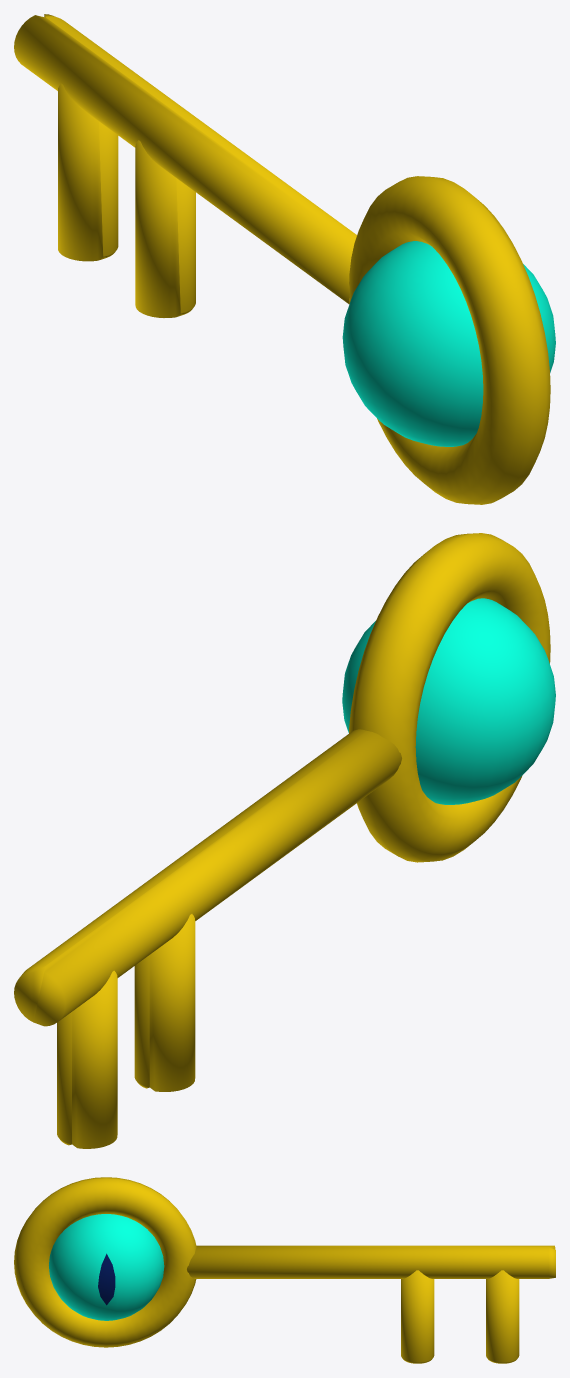
File: anahtar.fbx
The picture shows the model from 3 angles, top to bottom: view 1: azimuth 30°, elevation 25°; view 2: azimuth 150°, elevation 25°; view 3: azimuth 270°, elevation 25°; orthographic projection. The views are drawn at different scales.
Visible parts, largest first — view 1: Sphere, Sphere.001; view 2: Sphere, Sphere.001; view 3: Sphere, Sphere.001, Sphere.002.
Part boxes in pixels (left/top/right/bottom): Sphere: left=14, top=14, right=550, bottom=504; Sphere.001: left=342, top=241, right=555, bottom=446; Sphere: left=14, top=533, right=550, bottom=1148; Sphere.001: left=342, top=598, right=555, bottom=804; Sphere: left=14, top=1177, right=555, bottom=1363; Sphere.001: left=49, top=1214, right=164, bottom=1320; Sphere.002: left=98, top=1253, right=115, bottom=1305.
Bounding box in the file's own units: 200 × 336 × 925.
